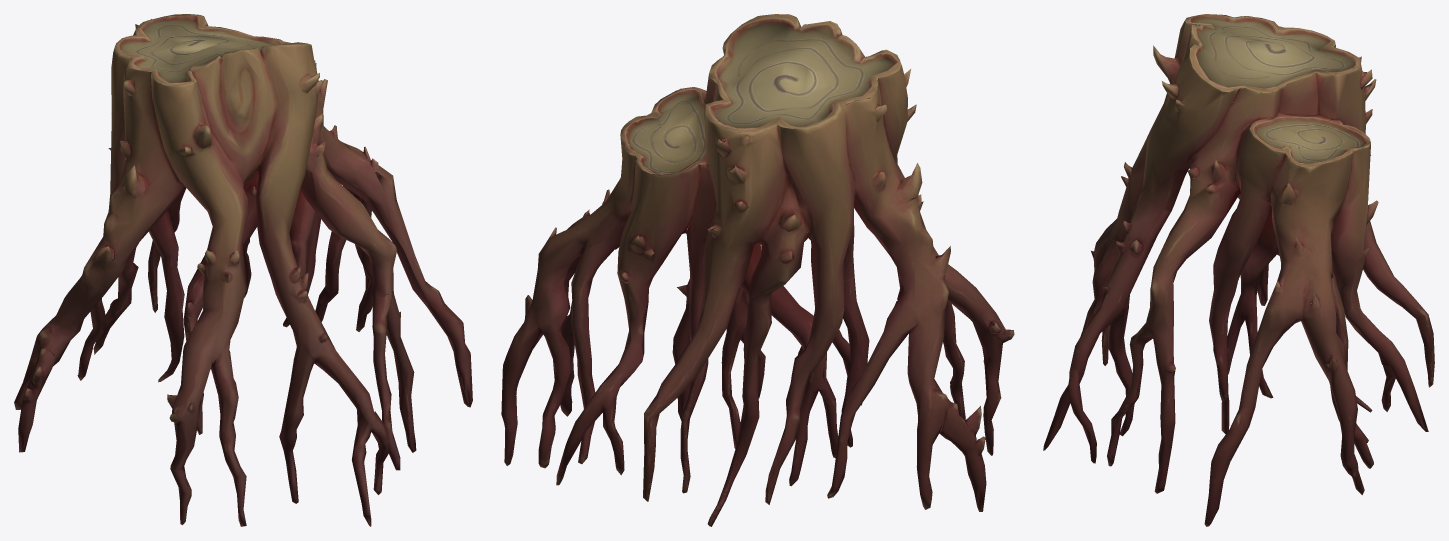
The model's file is bog_mangrove_tree_b_lite.glb.
3 views of the same model, side by side, from view 1: azimuth 30°, elevation 25°; view 2: azimuth 150°, elevation 25°; view 3: azimuth 270°, elevation 25° (orthographic). The views are drawn at different scales.
Parts seen in each view (by area): view 1: SM_XBOG_STL_Mangrove_01B; view 2: SM_XBOG_STL_Mangrove_01B; view 3: SM_XBOG_STL_Mangrove_01B.
Boxes of the visible parts, bbox=[...] form: SM_XBOG_STL_Mangrove_01B: bbox=[14, 14, 472, 526]; SM_XBOG_STL_Mangrove_01B: bbox=[501, 14, 1014, 526]; SM_XBOG_STL_Mangrove_01B: bbox=[1043, 14, 1434, 526].
Bounding box in the file's own units: 29.38 × 28.41 × 25.18.
1 material, 1 textured.
